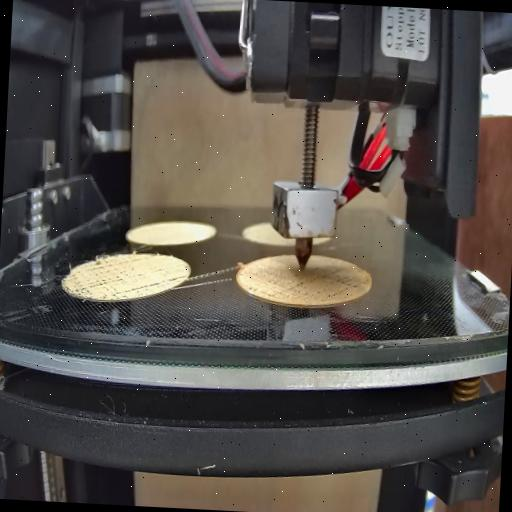under_extrusion: (65, 252, 162, 300), (281, 271, 370, 304), (240, 276, 278, 300), (166, 270, 188, 286)
